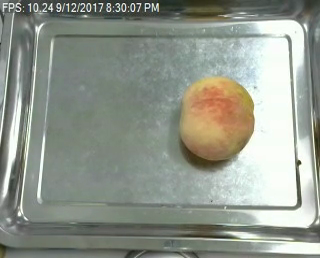Peach: (179, 76, 254, 159)
